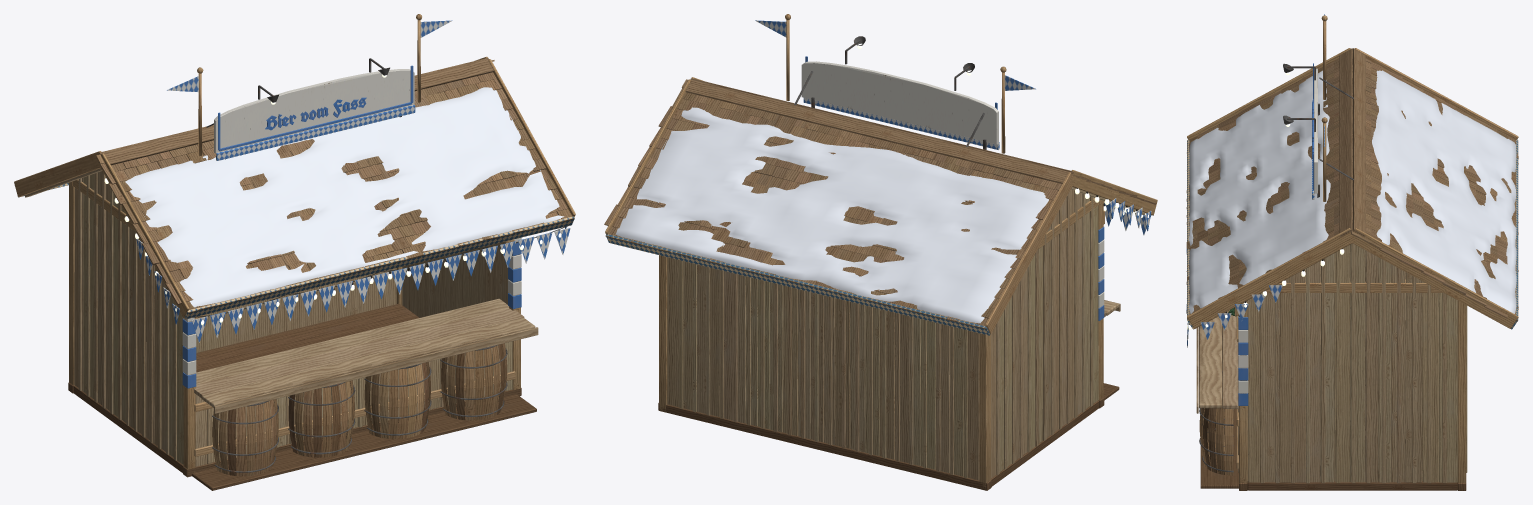
The model's file is stall_bier.glb.
The picture shows the model from 3 angles, left to right: view 1: azimuth 30°, elevation 25°; view 2: azimuth 150°, elevation 25°; view 3: azimuth 270°, elevation 25°; orthographic projection. The views are drawn at different scales.
Visible parts, largest first — view 1: snow_0, bier_wood, bier_paint, bier_roof, bier_barrels, bier_frame, bier_counter, bier_iron; view 2: bier_wood, snow_1, bier_roof, bier_paint, bier_frame, bier_iron; view 3: bier_wood, snow_1, snow_0, bier_roof, bier_frame, bier_counter, bier_paint, bier_barrels, bier_iron.
Part boxes in pixels (x1=…): snow_0: x1=125, y1=87, x2=564, y2=307; bier_wood: x1=24, y1=168, x2=512, y2=466; bier_paint: x1=18, y1=20, x2=574, y2=388; bier_roof: x1=96, y1=58, x2=573, y2=313; bier_barrels: x1=212, y1=343, x2=507, y2=476; bier_frame: x1=14, y1=14, x2=575, y2=490; bier_counter: x1=194, y1=298, x2=538, y2=413; bier_iron: x1=206, y1=58, x2=507, y2=472; bier_wood: x1=667, y1=187, x2=1145, y2=480; snow_1: x1=615, y1=107, x2=1048, y2=323; bier_roof: x1=604, y1=78, x2=1155, y2=329; bier_paint: x1=606, y1=20, x2=1153, y2=335; bier_frame: x1=605, y1=14, x2=1157, y2=490; bier_iron: x1=794, y1=36, x2=986, y2=149; bier_wood: x1=1238, y1=243, x2=1467, y2=483; snow_1: x1=1372, y1=70, x2=1516, y2=313; snow_0: x1=1189, y1=70, x2=1330, y2=313; bier_roof: x1=1186, y1=48, x2=1518, y2=321; bier_frame: x1=1187, y1=15, x2=1518, y2=490; bier_counter: x1=1196, y1=311, x2=1238, y2=413; bier_paint: x1=1186, y1=14, x2=1518, y2=405; bier_barrels: x1=1199, y1=325, x2=1233, y2=475; bier_iron: x1=1199, y1=63, x2=1353, y2=472.
Size of the model in its own units: 5.06 by 4.37 by 3.8.
9 materials, 4 textured.
